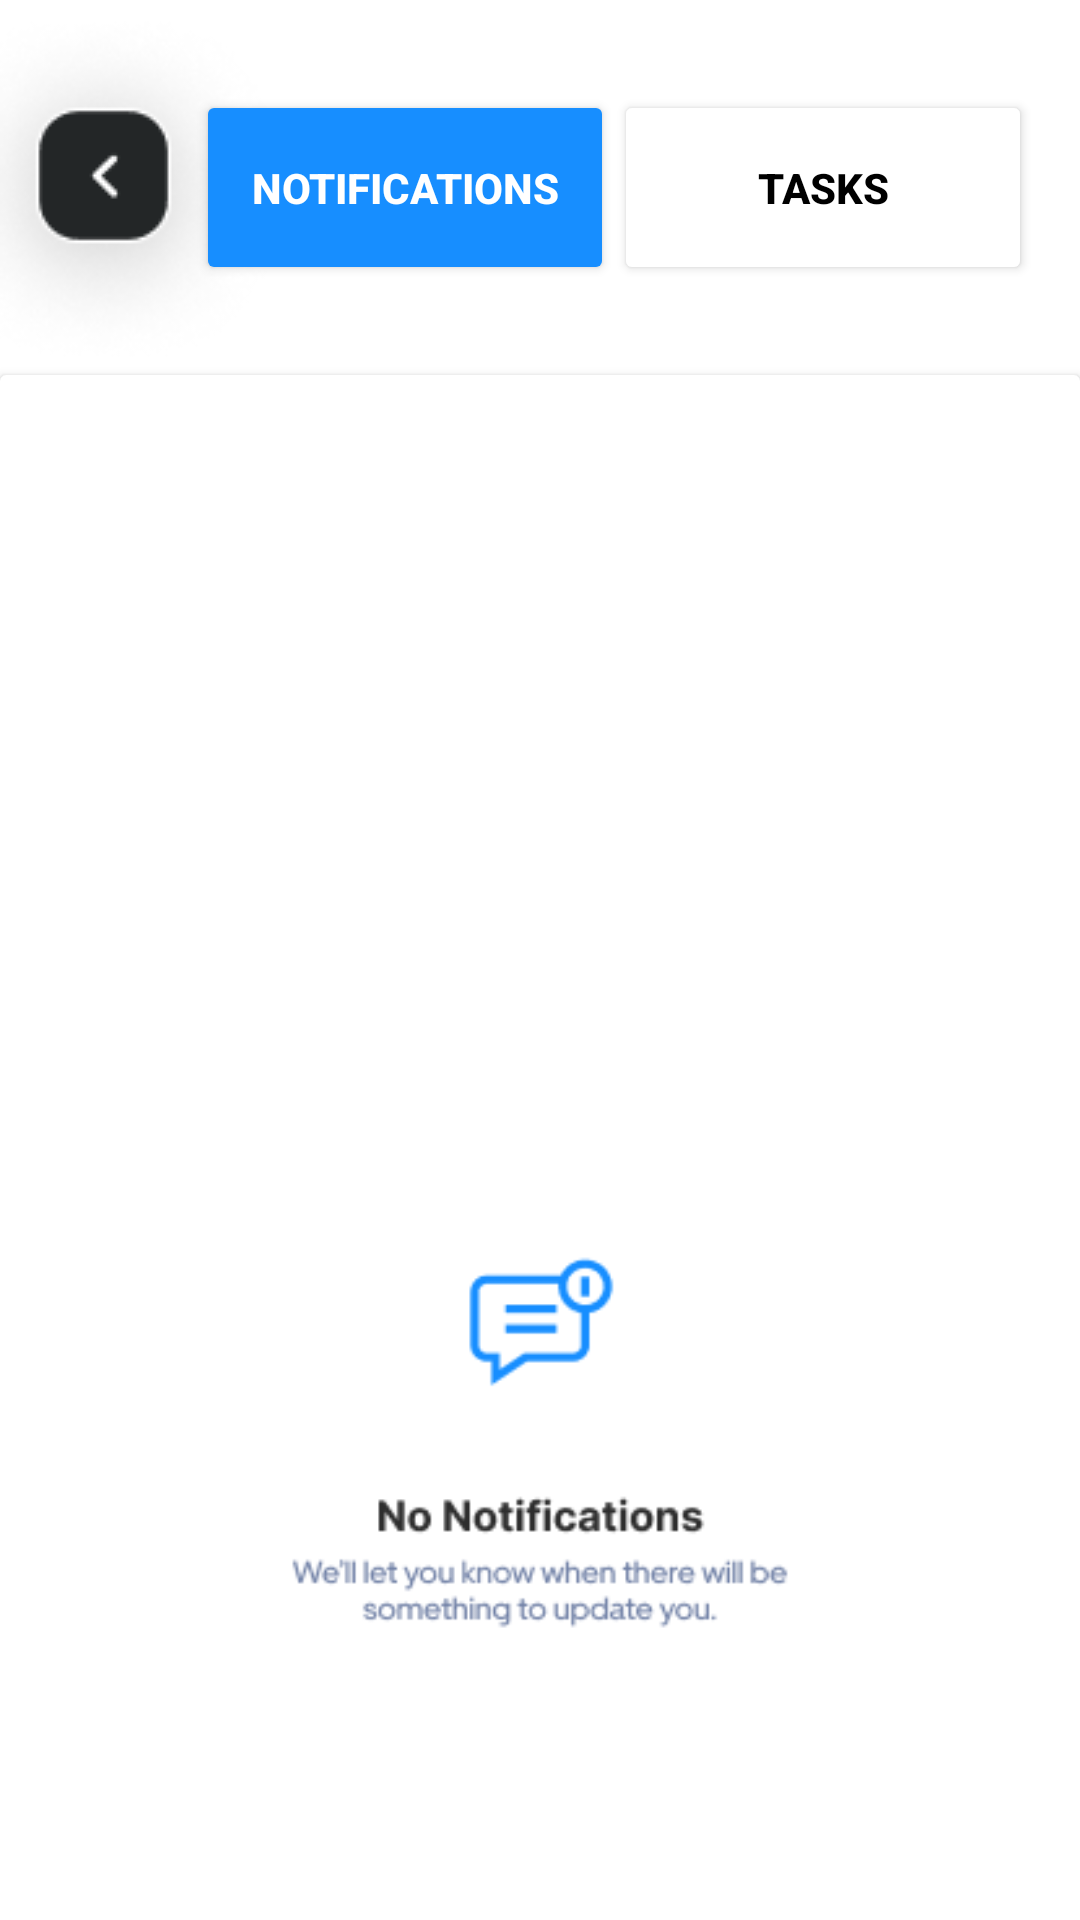

Named icons in this screenshot (1080px x 1920px) and their centers, point (x, y):
back: point (103, 182)
